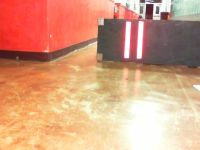switch: (136, 20, 145, 59), (123, 20, 132, 58)
